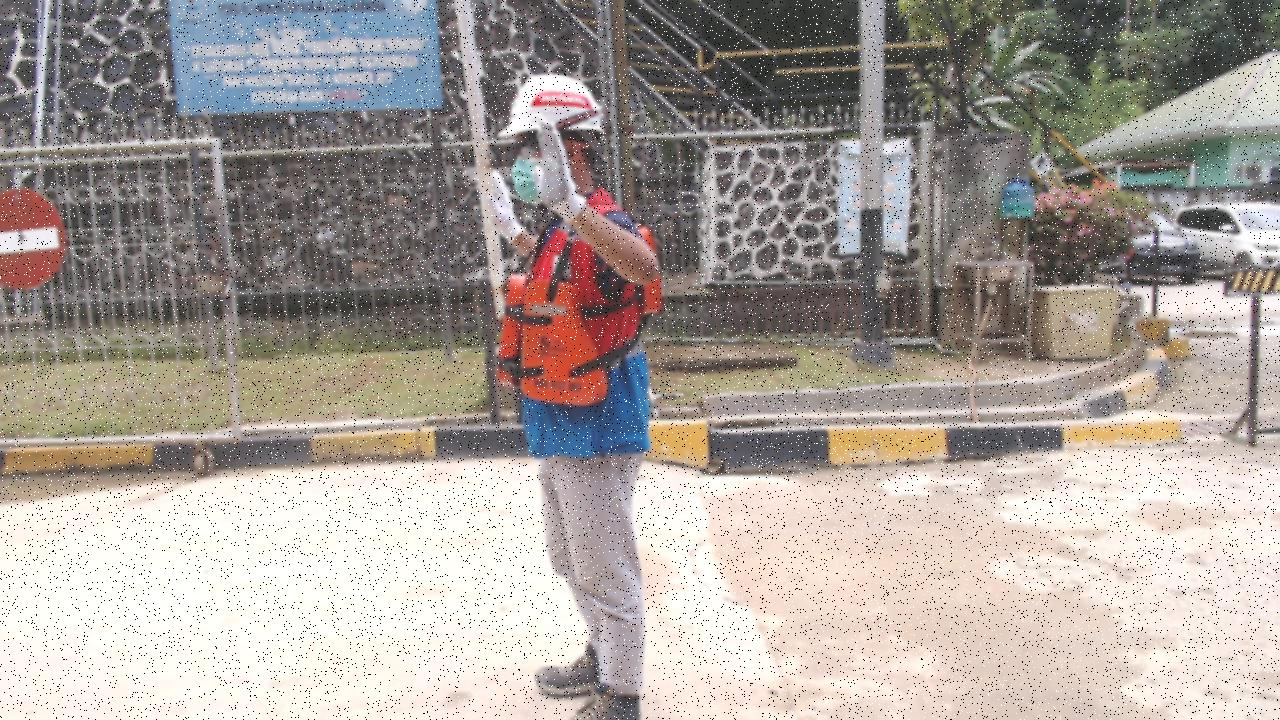glasses: (512, 138, 589, 159)
gloves: (528, 119, 589, 225), (485, 168, 528, 246)
helmet: (496, 72, 606, 138)
mask: (512, 154, 542, 207)
safety-shoes: (535, 641, 603, 695), (566, 683, 645, 720)
vest: (492, 270, 614, 416)
